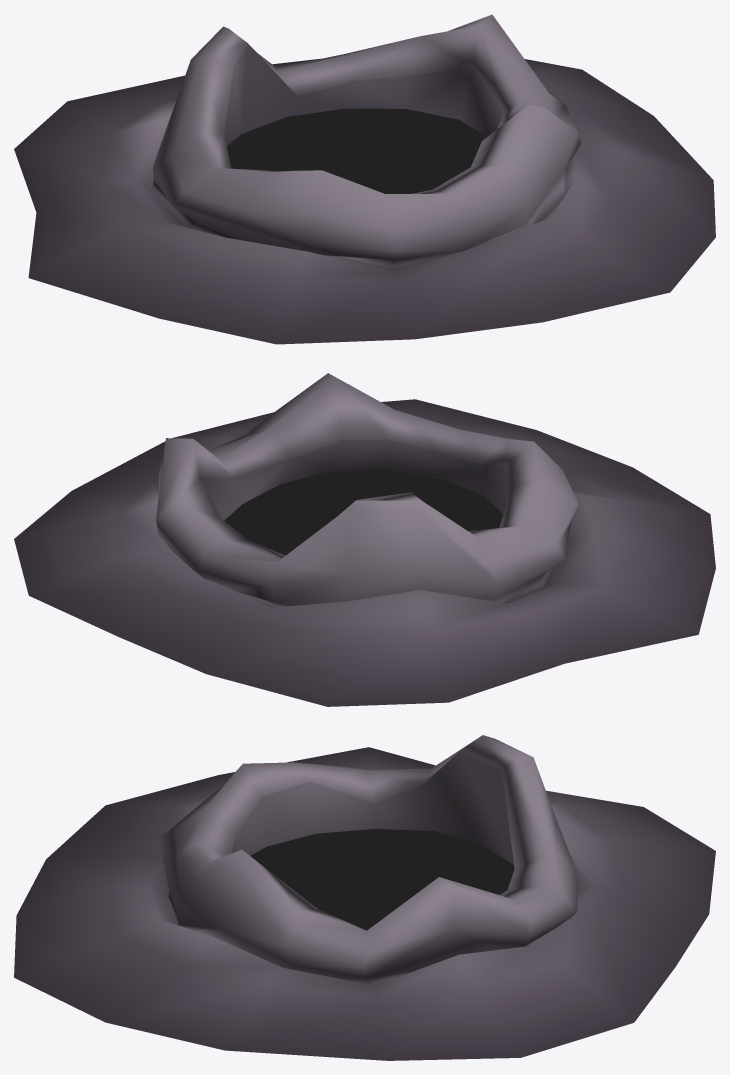
Rendered from tunnel1.fbx.
3 views of the same model, one above another, from view 1: azimuth 30°, elevation 25°; view 2: azimuth 150°, elevation 25°; view 3: azimuth 270°, elevation 25° (orthographic). The views are drawn at different scales.
Visible parts, largest first — view 1: tunnel1; view 2: tunnel1; view 3: tunnel1.
Boxes of the visible parts, x1,y1,x2,y2 form: tunnel1: (14,14,715,344); tunnel1: (14,373,715,706); tunnel1: (14,735,715,1060).
Bounding box in the file's own units: 208 × 39.45 × 196.
